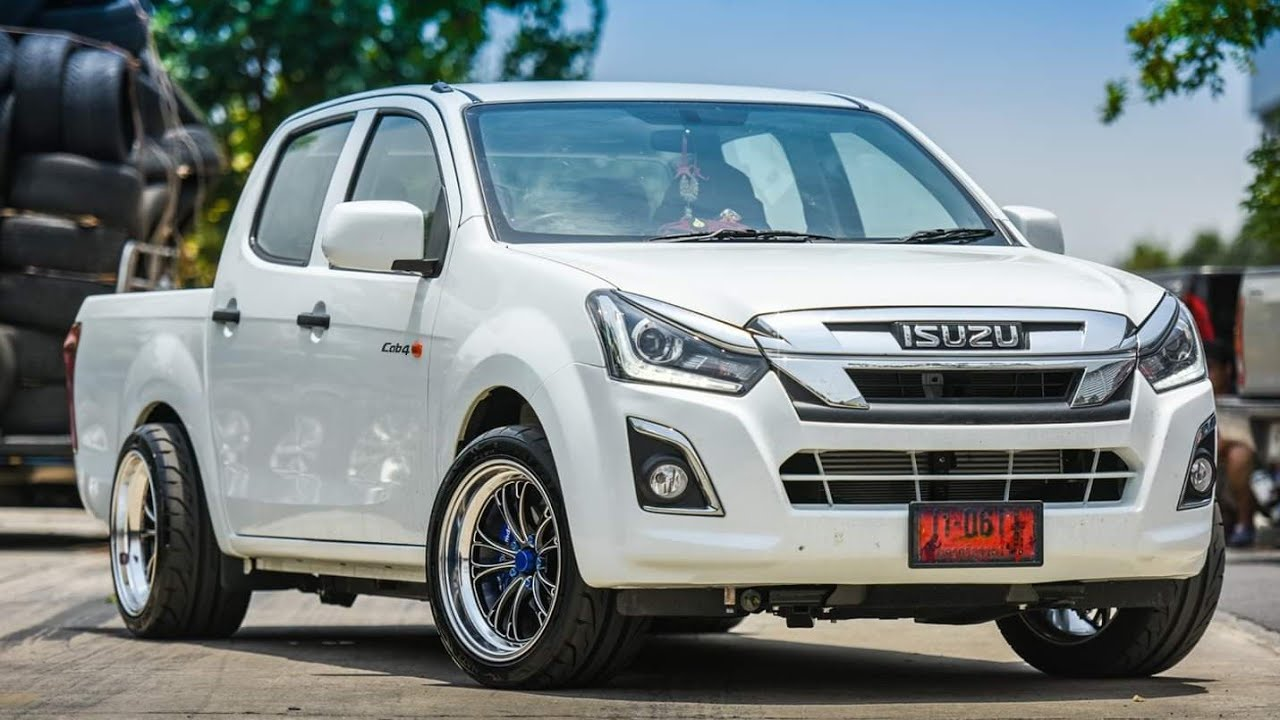pickup: (57, 79, 1229, 693)
